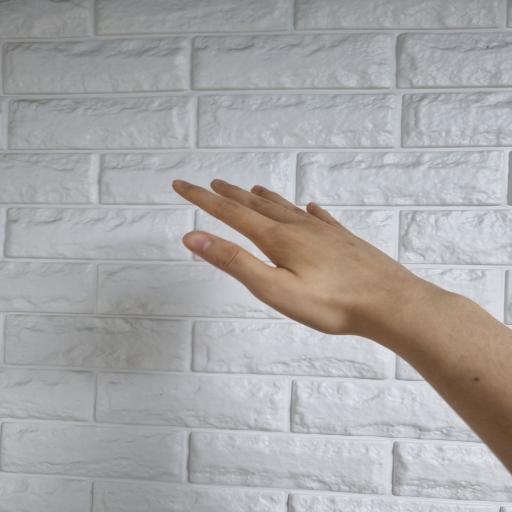Paper: (172, 179, 512, 477)
